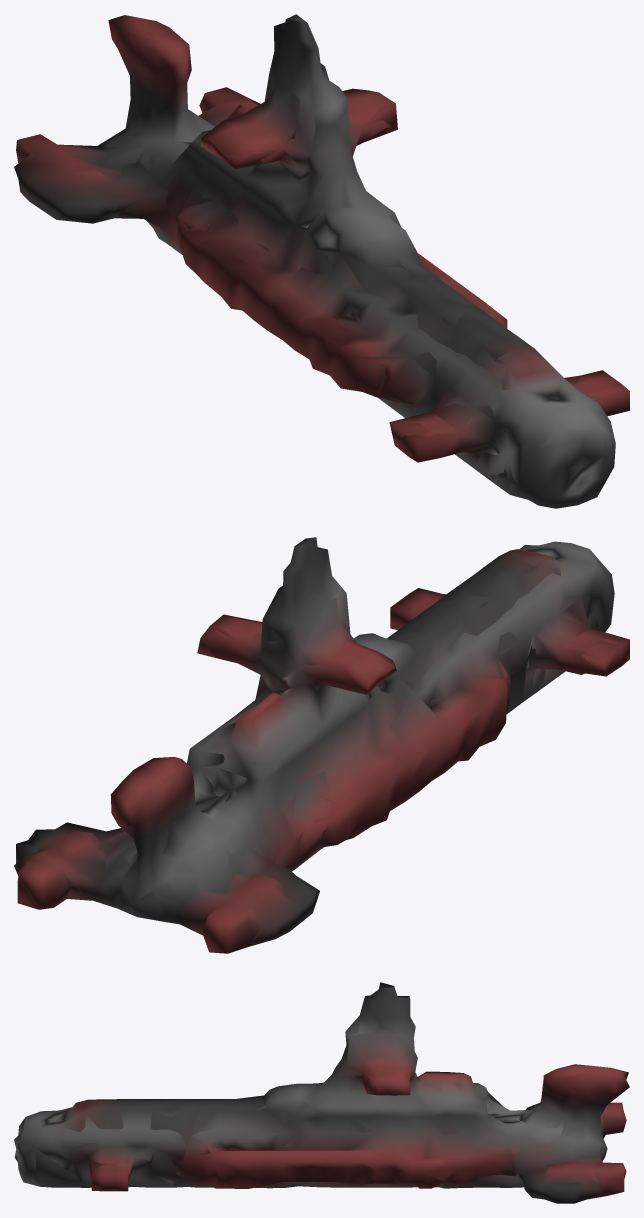
The model's file is typhoon_sub.glb.
3 renders of one model, top to bottom at view 1: azimuth 30°, elevation 25°; view 2: azimuth 150°, elevation 25°; view 3: azimuth 270°, elevation 25°, orthographic. The views are drawn at different scales.
Parts seen in each view (by area): view 1: typhoon_sub; view 2: typhoon_sub; view 3: typhoon_sub.
Boxes of the visible parts, left/top/right/bottom form: typhoon_sub: left=14, top=14, right=629, bottom=508; typhoon_sub: left=14, top=537, right=629, bottom=953; typhoon_sub: left=14, top=982, right=629, bottom=1203.
Bounding box in the file's own units: 2.3 × 2.37 × 6.73.
